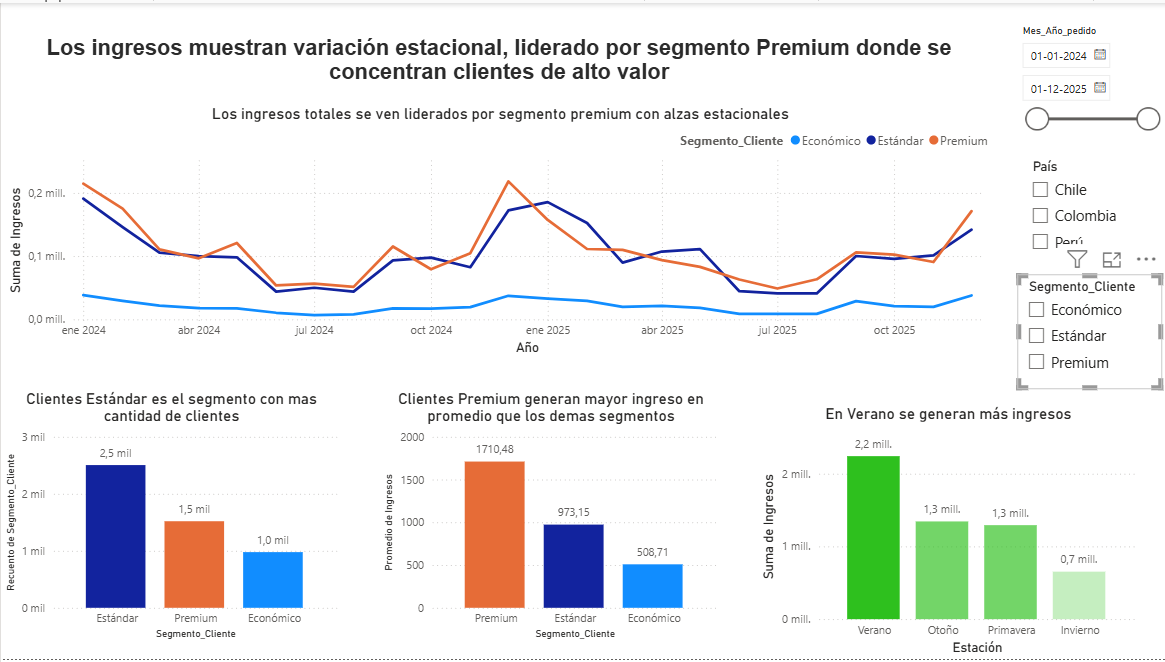

The page's visual inventory and layout, read from the dashboard file:
{"tool":"powerbi","page":{"name":"Detalle","canvas":[1280,720],"ordinal":1},"visuals":[{"type":"lineChart","title":"Los ingresos totales se ven liderados por  segmento premium con alzas estacionales","fields":{"Y":["Sum(Andes_Retail_Group_2024_2025.Ingresos)"],"Series":["Andes_Retail_Group_2024_2025.Segmento_Cliente"],"Category":["Andes_Retail_Group_2024_2025.Mes_Año_pedido.Variación.Jerarquía de fechas.Año","Andes_Retail_Group_2024_2025.Mes_Año_pedido.Variación.Jerarquía de fechas.Trimestre","Andes_Retail_Group_2024_2025.Mes_Año_pedido.Variación.Jerarquía de fechas.Mes","Andes_Retail_Group_2024_2025.Mes_Año_pedido.Variación.Jerarquía de fechas.Día"]},"box":[2.7,111.1,1090.9,279.9],"z":0},{"type":"slicer","fields":{"Values":["Andes_Retail_Group_2024_2025.País"]},"box":[1119.7,166,140,131.7],"z":1000},{"type":"slicer","fields":{"Values":["Andes_Retail_Group_2024_2025.Mes_Año_pedido"]},"box":[1108.8,19.2,171.5,146.8],"z":2000},{"type":"columnChart","title":"Clientes Estándar es el segmento con mas cantidad de clientes","fields":{"Category":["Andes_Retail_Group_2024_2025.Segmento_Cliente"],"Y":["CountNonNull(Andes_Retail_Group_2024_2025.Segmento_Cliente)"]},"box":[0,424,374.6,279.9],"z":3000},{"type":"columnChart","title":"Clientes Premium generan mayor ingreso en promedio que los demas segmentos","fields":{"Category":["Andes_Retail_Group_2024_2025.Segmento_Cliente"],"Y":["Avg(Andes_Retail_Group_2024_2025.Ingresos)"]},"box":[415.8,424,376,279.9],"z":4000},{"type":"columnChart","title":"En Verano se generan más ingresos","fields":{"Category":["Andes_Retail_Group_2024_2025.Estación"],"Y":["Sum(Andes_Retail_Group_2024_2025.Ingresos)"]},"box":[830.2,440.5,419.9,279.9],"z":5000},{"type":"slicer","fields":{"Values":["Andes_Retail_Group_2024_2025.Segmento_Cliente"]},"box":[1115.6,297.8,159.2,126.2],"z":6000},{"type":"textbox","box":[1.4,30.2,1090.9,81],"z":7000}]}

Visuals, with their boxes on the page's 1280x720 design canvas (x1, y1, x2, y2). These are canvas units, not pixel positions in the 1165x662 screenshot, which may show the page scaled, cropped or inside an application window:
"Los ingresos totales se ven liderados por  segmento premium con alzas estacionales" lineChart: (x1=3, y1=111, x2=1094, y2=391)
slicer - Andes_Retail_Group_2024_2025.País: (x1=1120, y1=166, x2=1260, y2=298)
slicer - Andes_Retail_Group_2024_2025.Mes_Año_pedido: (x1=1109, y1=19, x2=1280, y2=166)
"Clientes Estándar es el segmento con mas cantidad de clientes" columnChart: (x1=0, y1=424, x2=375, y2=704)
"Clientes Premium generan mayor ingreso en promedio que los demas segmentos" columnChart: (x1=416, y1=424, x2=792, y2=704)
"En Verano se generan más ingresos" columnChart: (x1=830, y1=440, x2=1250, y2=720)
slicer - Andes_Retail_Group_2024_2025.Segmento_Cliente: (x1=1116, y1=298, x2=1275, y2=424)
textbox: (x1=1, y1=30, x2=1092, y2=111)
